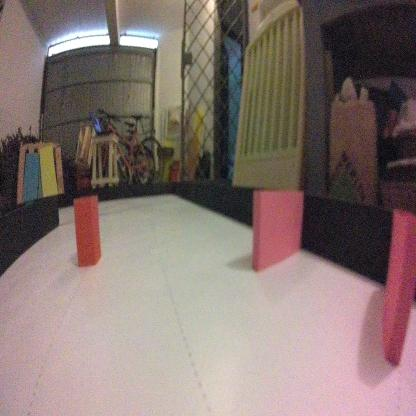magenta: (380, 208, 416, 372), (250, 186, 304, 275)
red: (70, 190, 100, 263)
